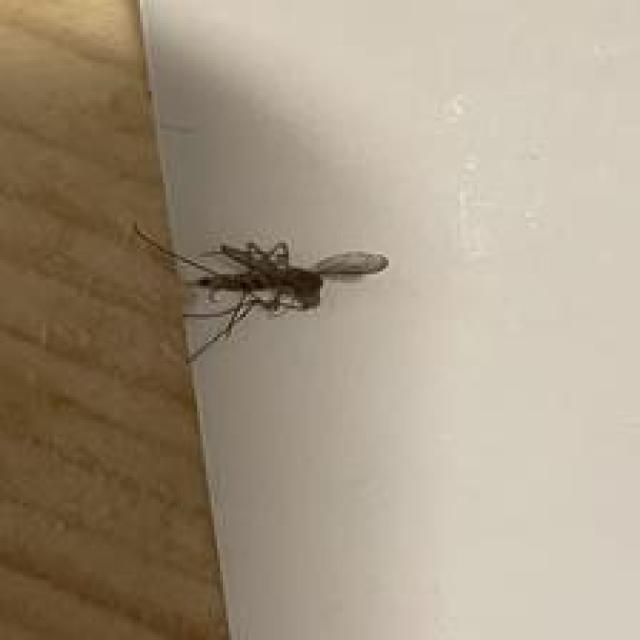Culex: (130, 220, 390, 366)
